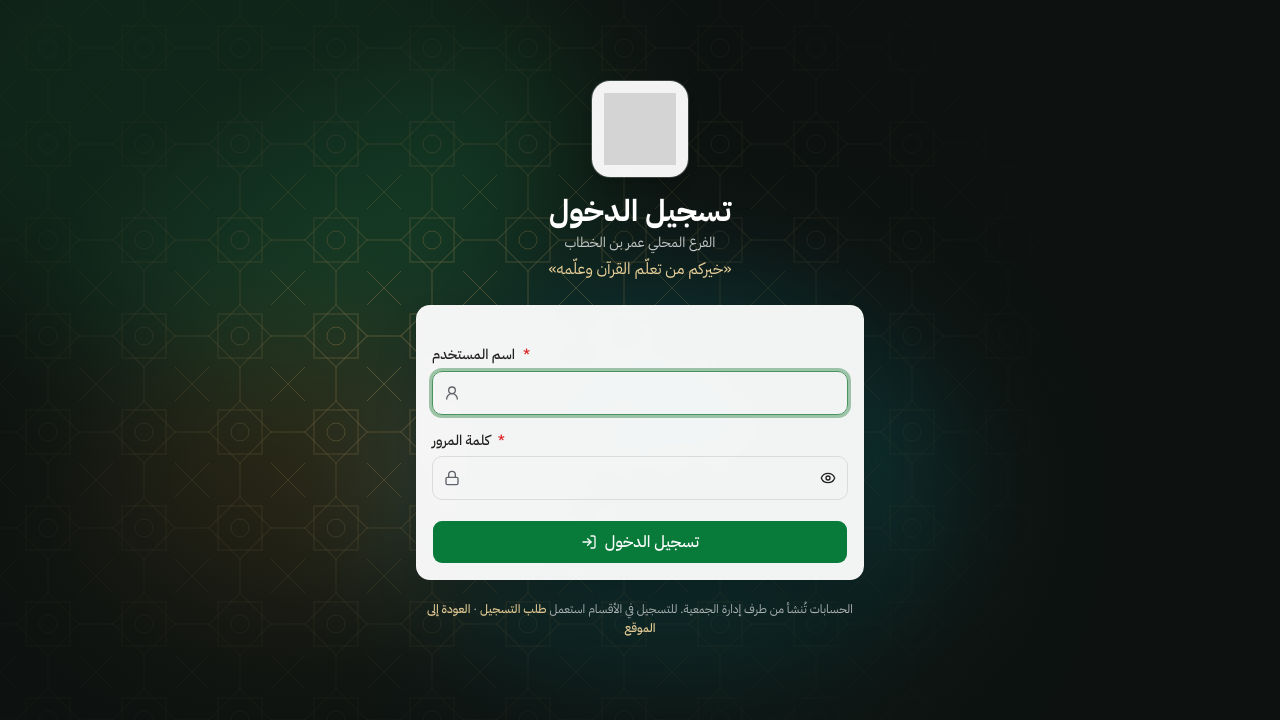
Test: login page › explains a disabled account
Type "old-teacher" into the field labelled "اسم المستخدم *" at (640, 392), box [432,370,848,414]
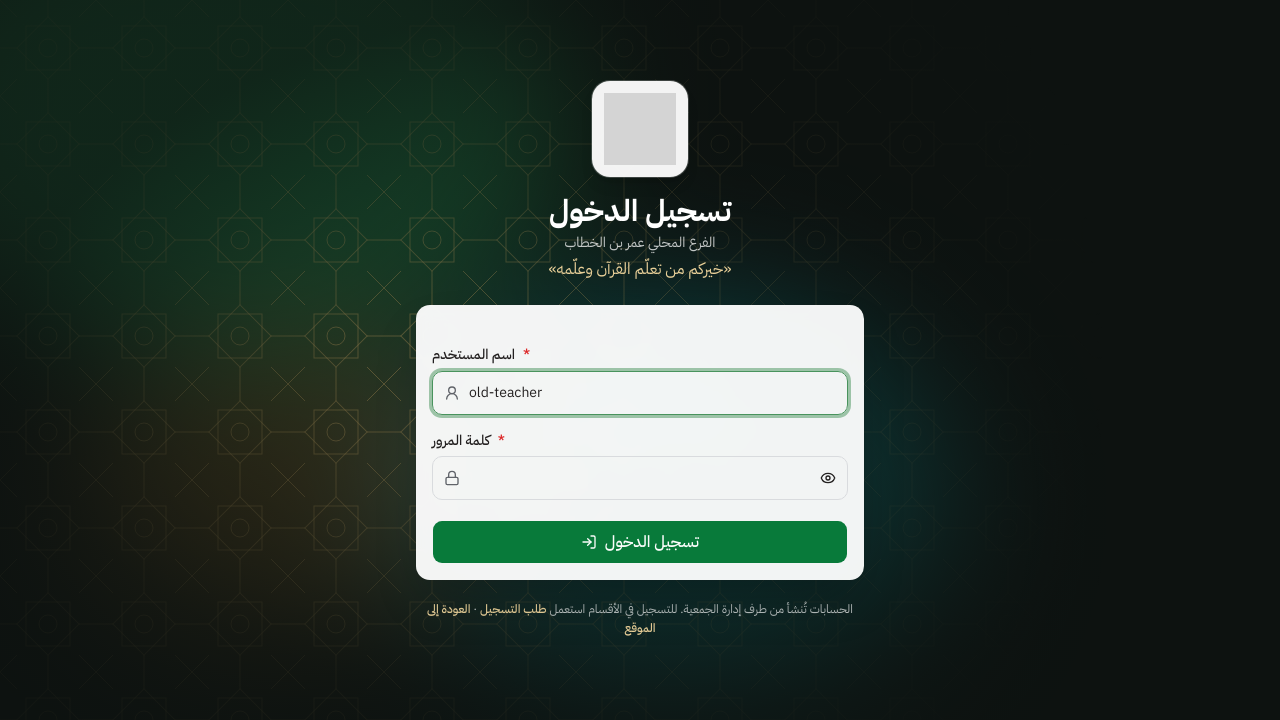
Type "secret-123" into the password field labelled "كلمة المرور *" at (640, 478), box [432,456,848,500]
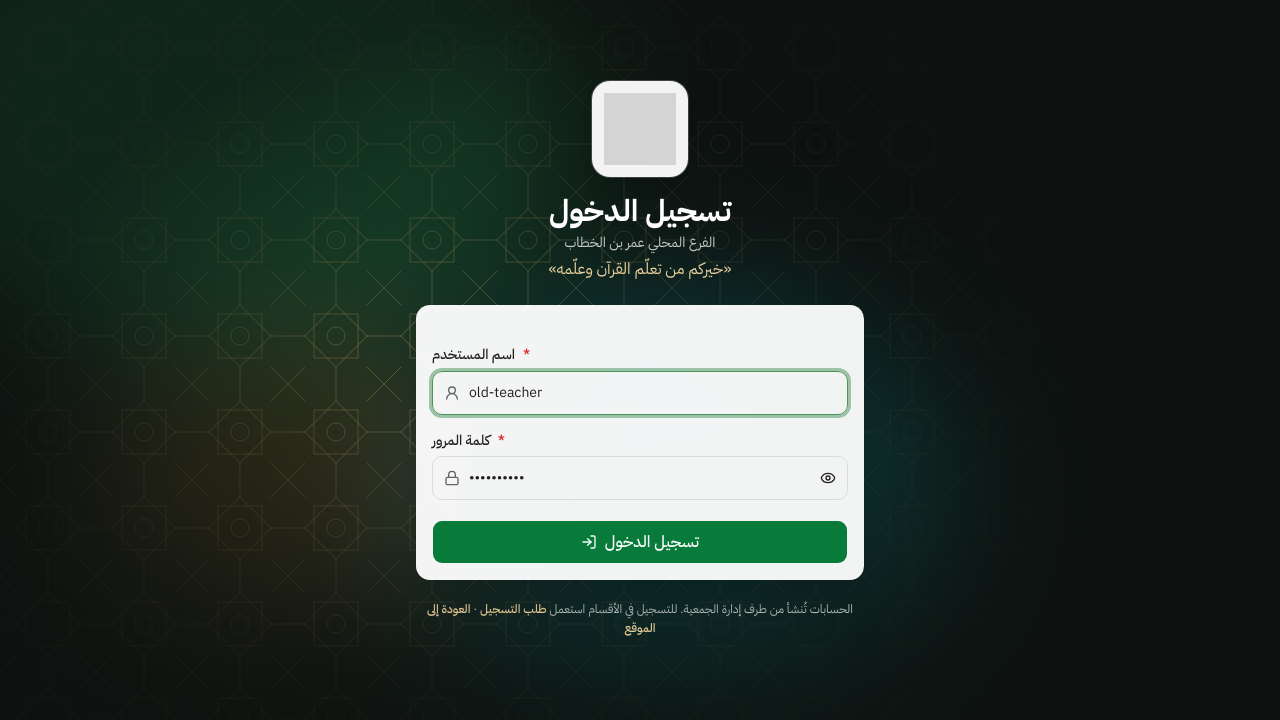
Click the button "تسجيل الدخول" at (640, 542), box [432,520,848,564]
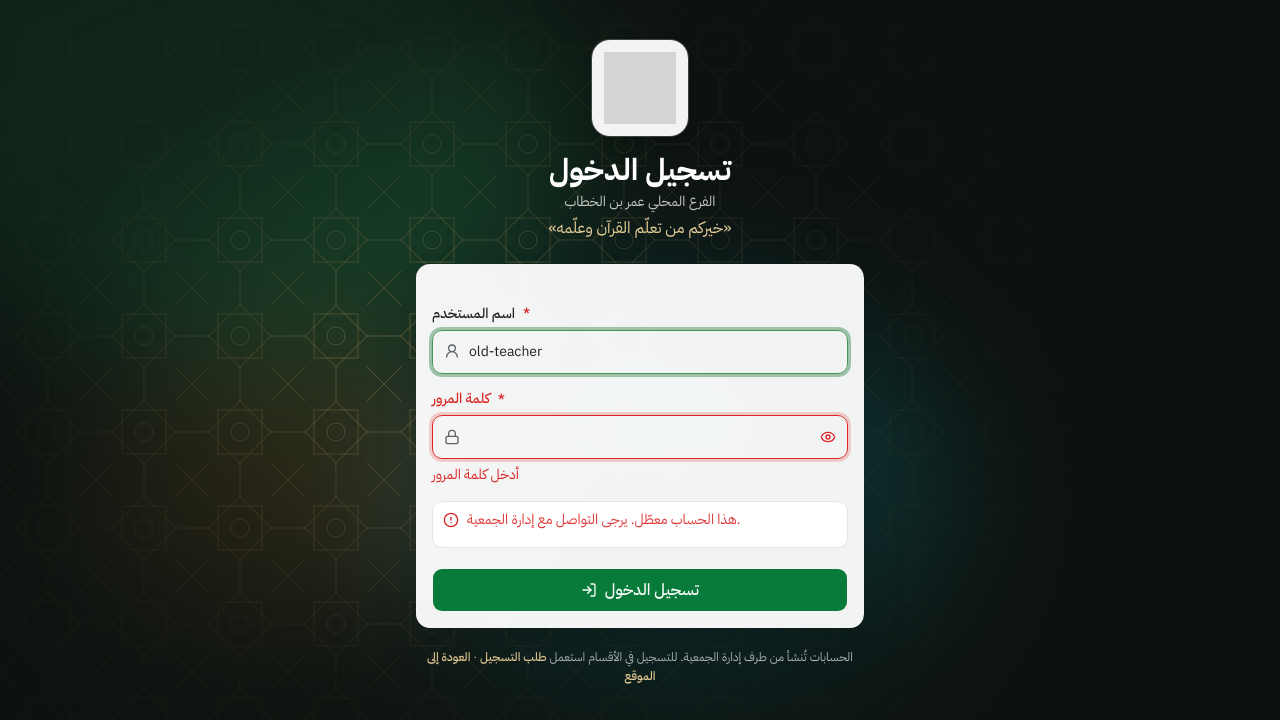
Now the text "هذا الحساب معطّل. يرجى التواصل مع إدارة الجمعية." is shown, box [467,508,740,530]
